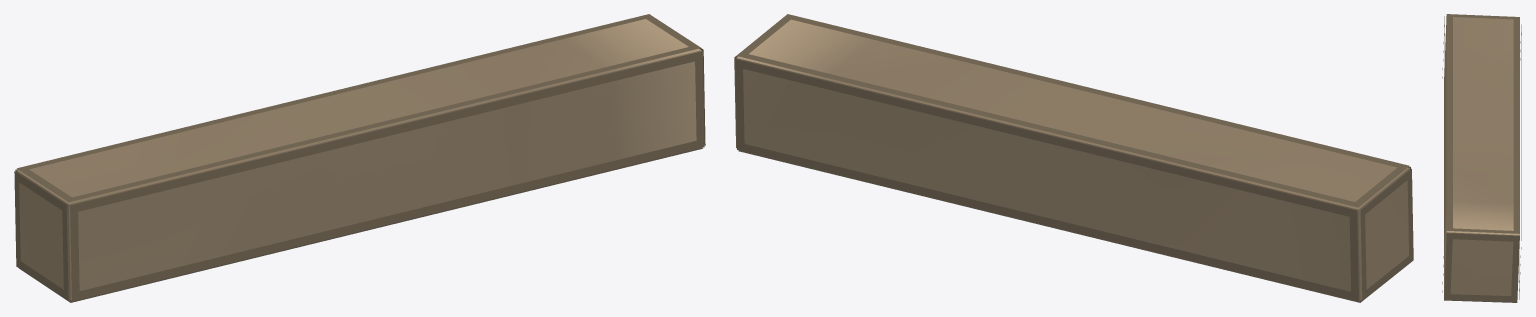
Rendered from key.glb.
3 renders of one model, left to right at view 1: azimuth 30°, elevation 25°; view 2: azimuth 150°, elevation 25°; view 3: azimuth 270°, elevation 25°, orthographic. The views are drawn at different scales.
Parts seen in each view (by area): view 1: key; view 2: key; view 3: key.
Boxes of the visible parts, x1,y1,x2,y2 form: key: (14, 14, 705, 302); key: (734, 14, 1413, 302); key: (1442, 14, 1521, 302).
Bounding box in the file's own units: 0.1209 × 0.0186 × 0.0186.
